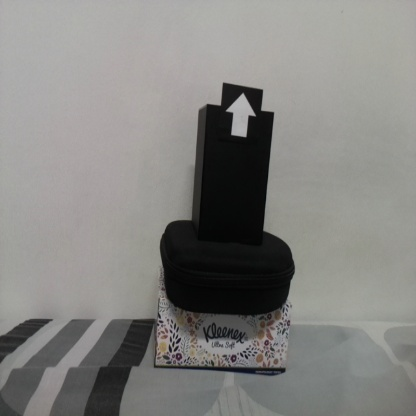id_1: (221, 83, 261, 156)
